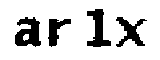1: (81, 5, 113, 51)
a: (13, 14, 43, 49)
r: (46, 16, 76, 50)
x: (115, 14, 149, 51)
